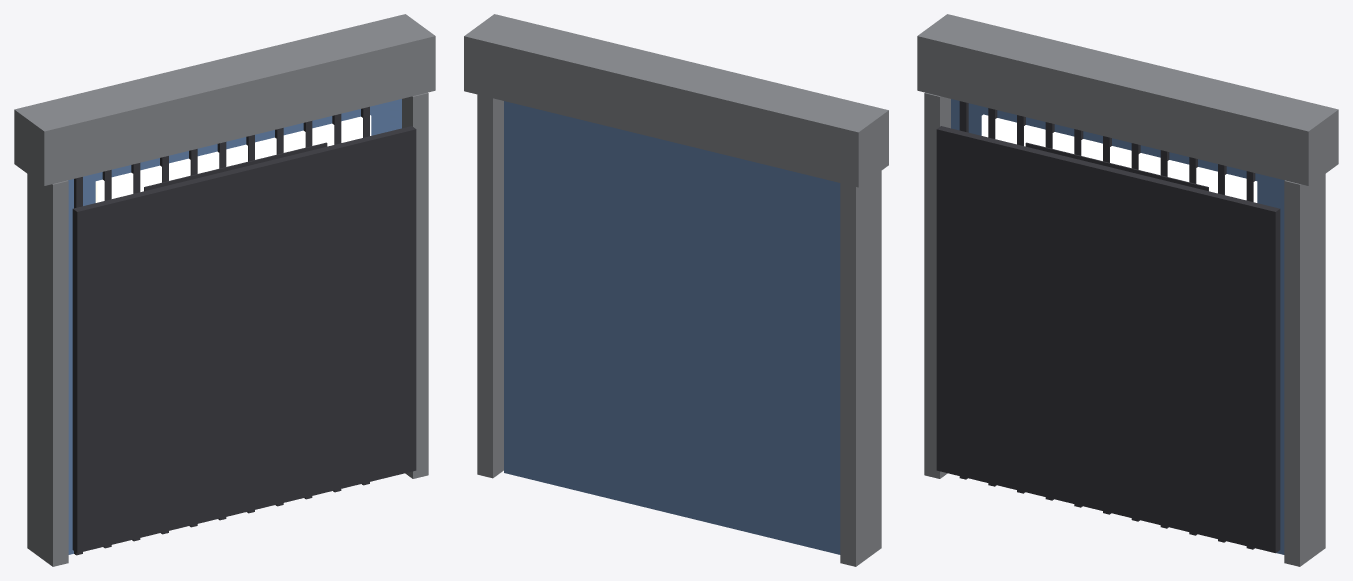
Rendered from prop_shutter_name_blue.glb.
The picture shows the model from 3 angles, left to right: view 1: azimuth 30°, elevation 25°; view 2: azimuth 150°, elevation 25°; view 3: azimuth 330°, elevation 25°; orthographic projection.
Parts seen in each view (by area): view 1: shutter_name_blue; view 2: shutter_name_blue; view 3: shutter_name_blue.
Part boxes in pixels (x1=…): shutter_name_blue: x1=14, y1=14, x2=435, y2=566; shutter_name_blue: x1=464, y1=14, x2=888, y2=566; shutter_name_blue: x1=917, y1=14, x2=1338, y2=566.
Size of the model in its own units: 3 by 3.2 by 0.49.
